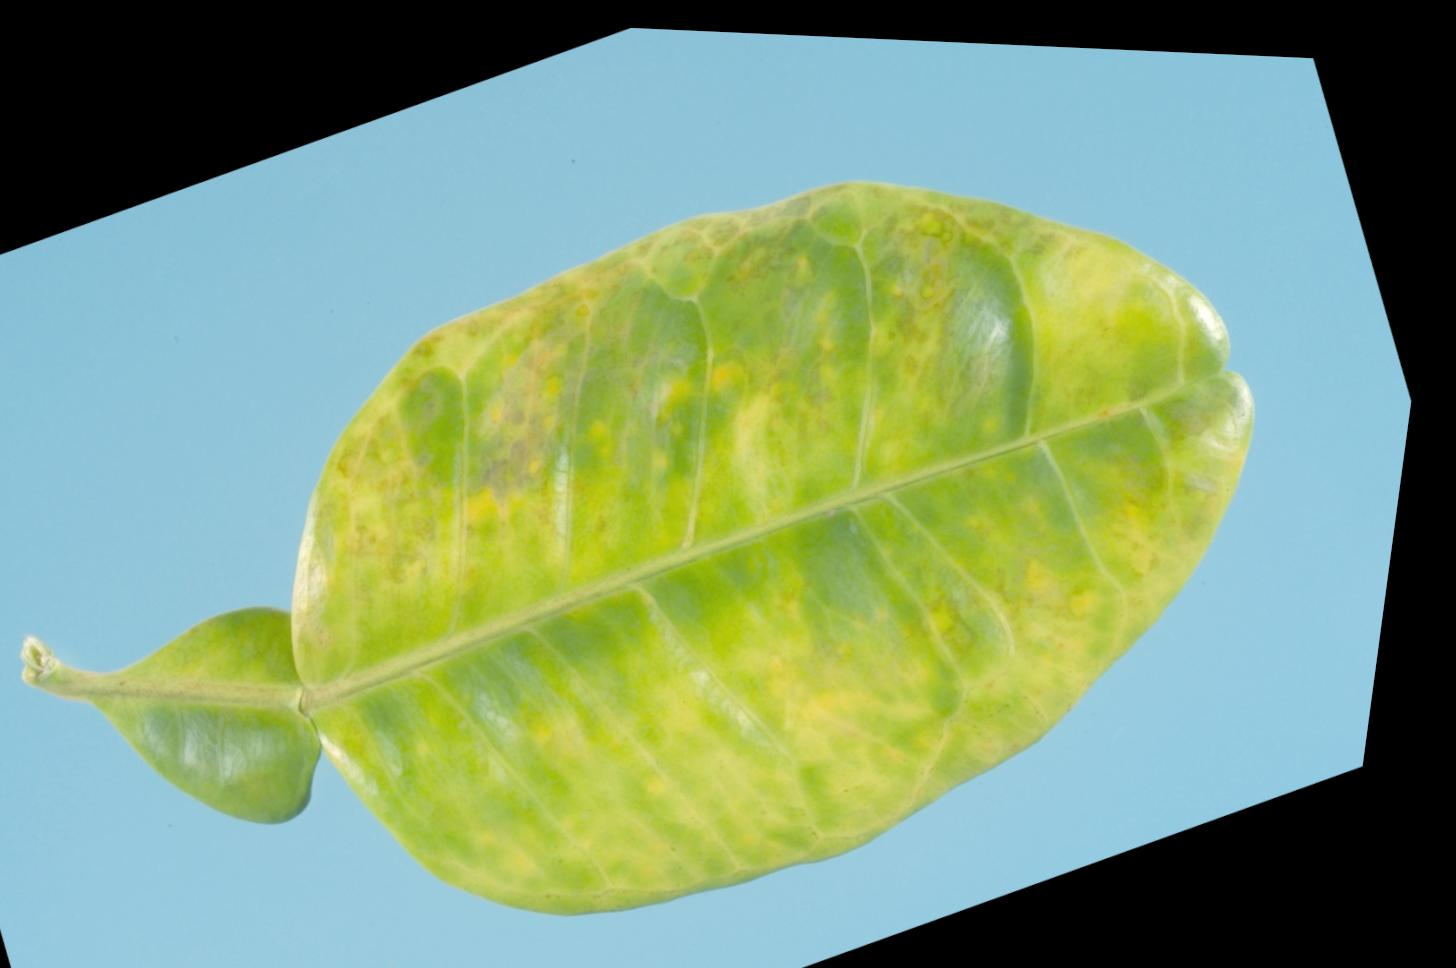Citrus Greening: (0, 1, 1418, 968)
